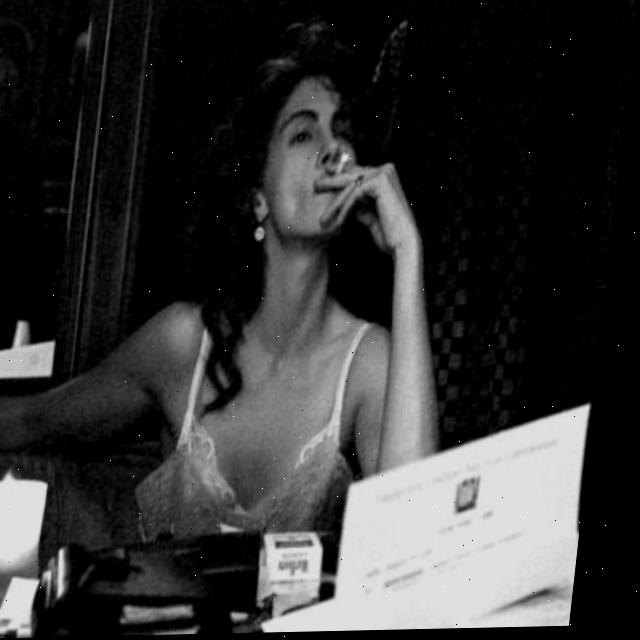cigarette: (339, 147, 355, 179)
